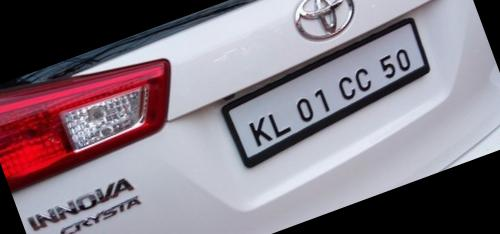plate: (199, 16, 450, 171)
